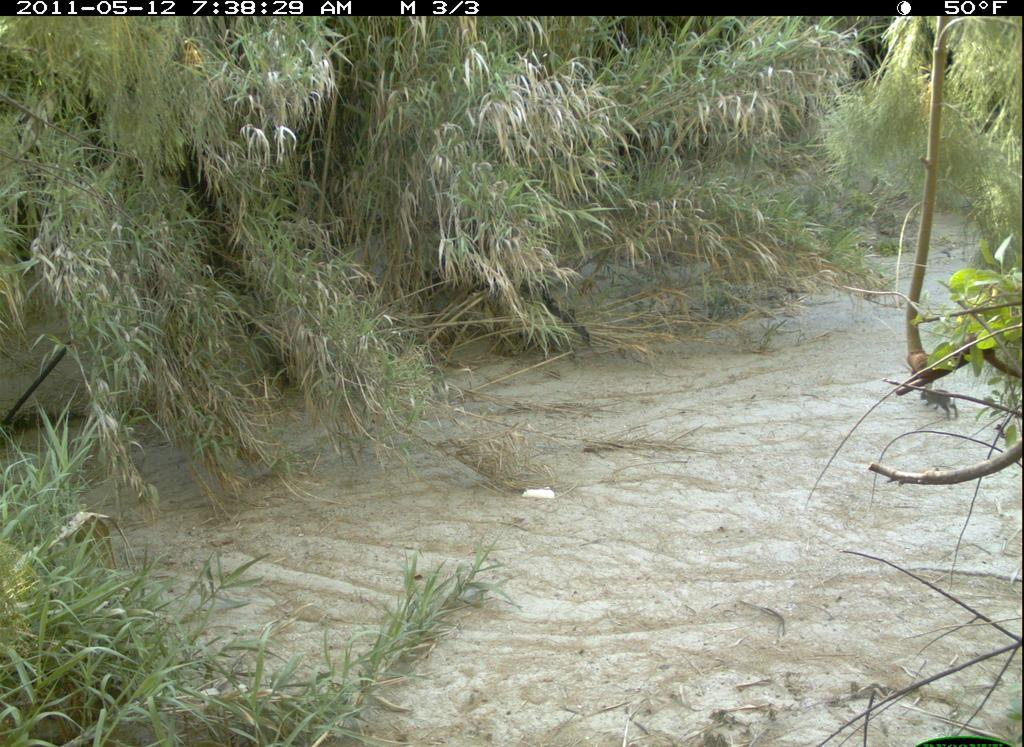rabbit: (916, 378, 963, 423)
